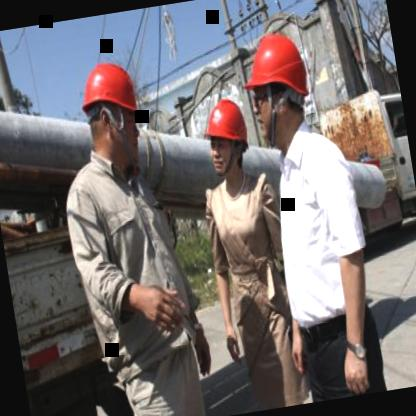helmet: (235, 17, 324, 151), (66, 49, 153, 179), (194, 89, 257, 183)
